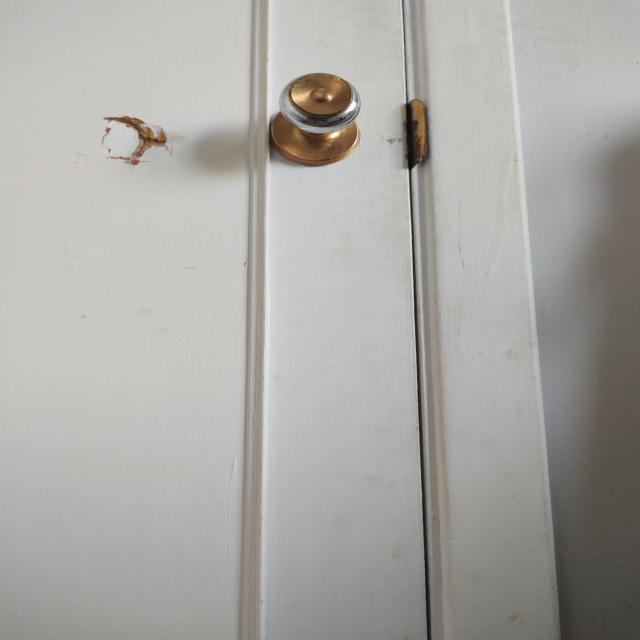door-knob: (271, 74, 361, 166)
